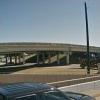Bridge: (3, 35, 93, 58)
